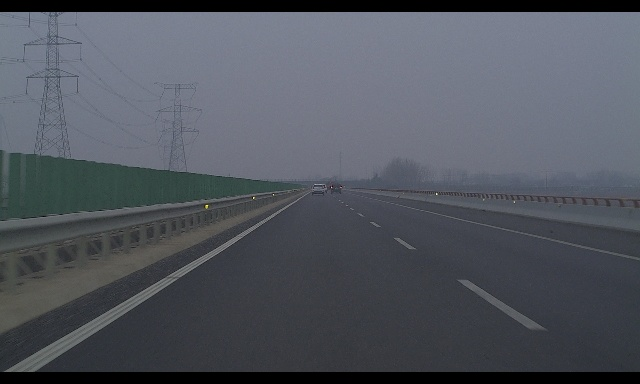car: (311, 184, 325, 195), (331, 183, 342, 194), (319, 184, 327, 193)
